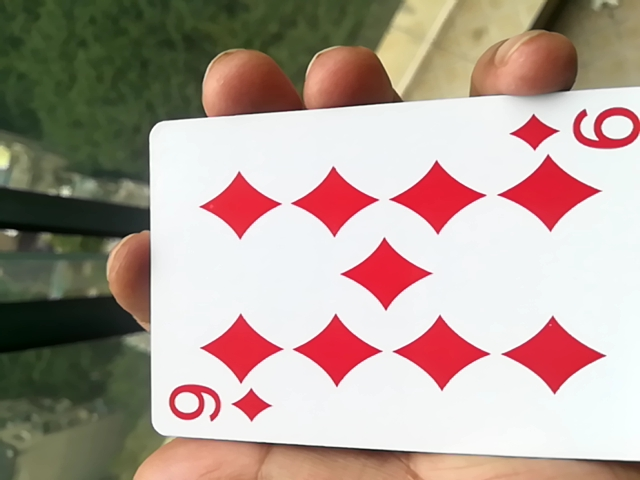fk 9: (128, 102, 638, 468)
